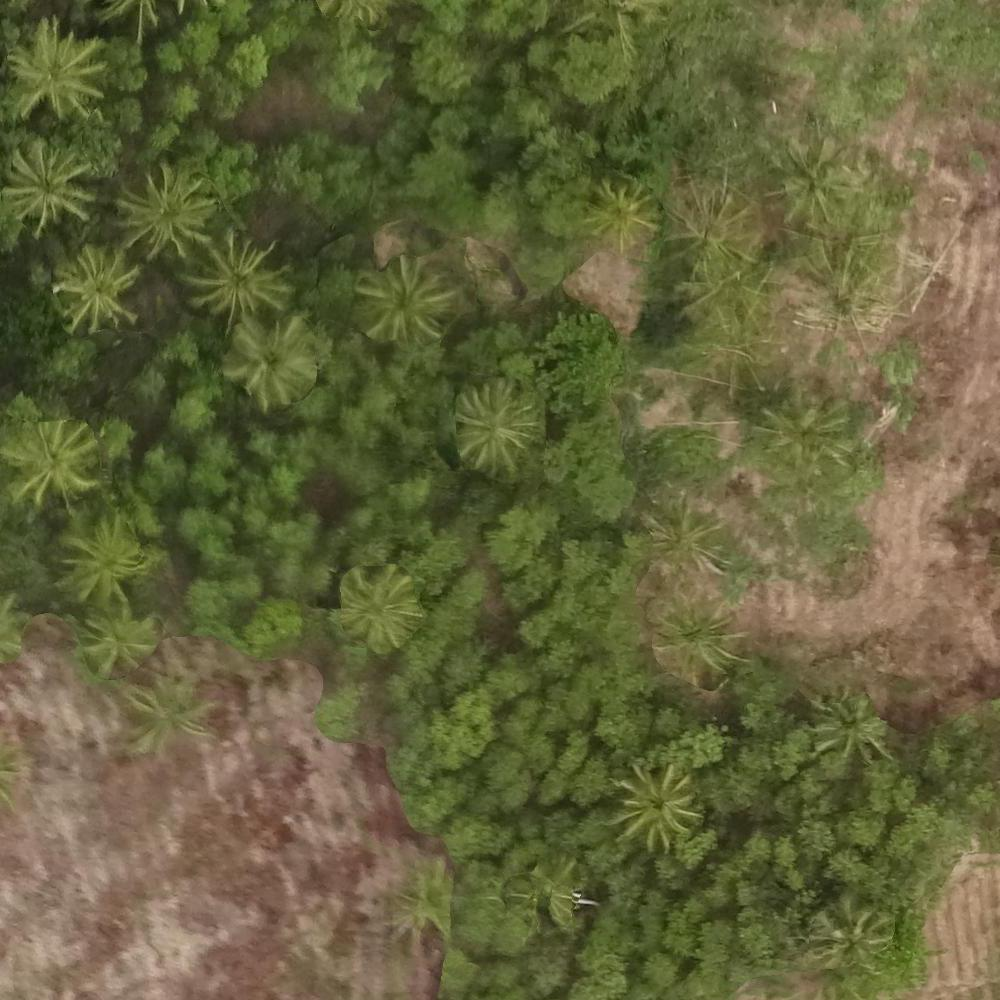Palm: (8, 26, 102, 122), (5, 418, 100, 511), (2, 141, 94, 233), (117, 173, 216, 256), (611, 765, 700, 856), (221, 317, 313, 405), (49, 247, 144, 330), (190, 242, 287, 323), (452, 382, 533, 475), (658, 602, 752, 681), (358, 265, 448, 346), (116, 678, 213, 750), (339, 572, 428, 650), (66, 524, 143, 602), (818, 695, 897, 767), (589, 179, 658, 251), (82, 613, 158, 672)
